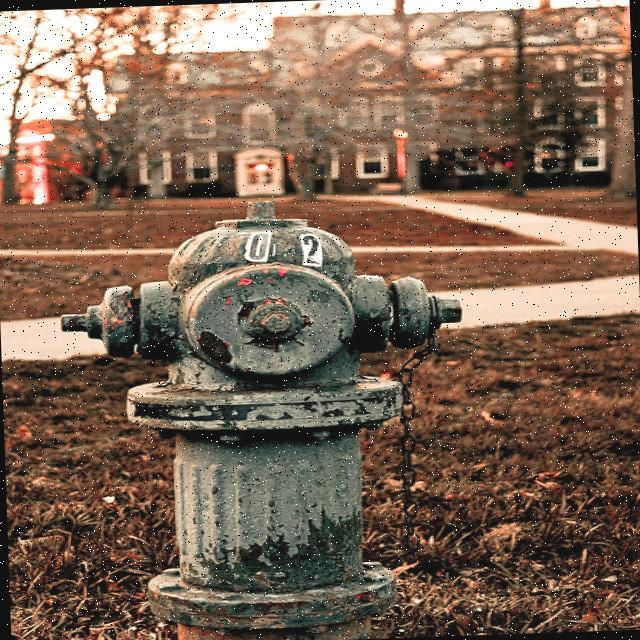fire_hydrant: (54, 192, 471, 640)
